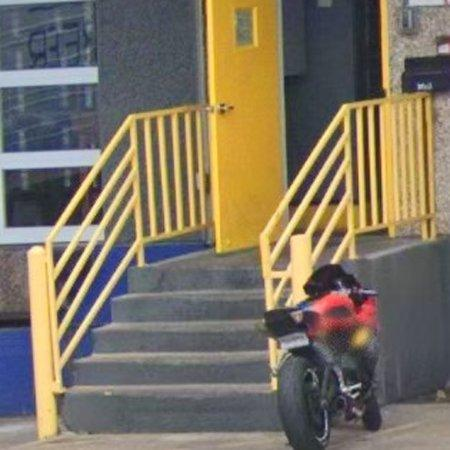stairs: (61, 250, 281, 433)
